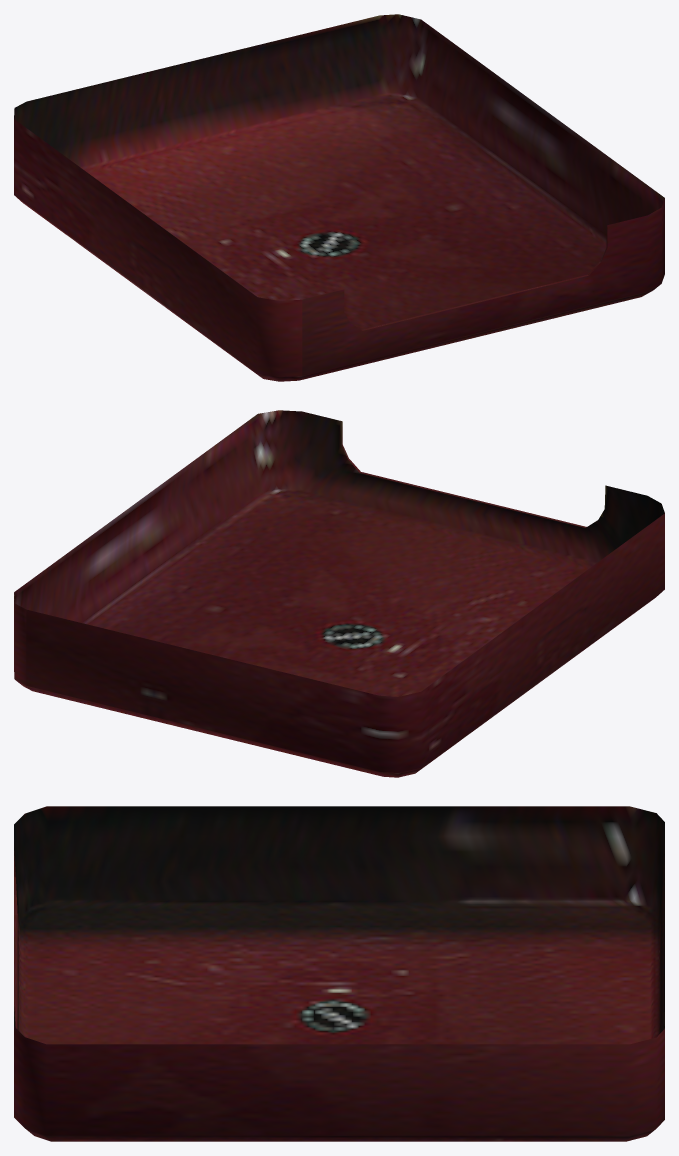
Rendered from paper_rack-2.FBX.
The picture shows the model from 3 angles, top to bottom: view 1: azimuth 30°, elevation 25°; view 2: azimuth 150°, elevation 25°; view 3: azimuth 270°, elevation 25°; orthographic projection. The views are drawn at different scales.
Parts seen in each view (by area): view 1: Line03; view 2: Line03; view 3: Line03.
Boxes of the visible parts, x1=… form: Line03: x1=14, y1=14, x2=664, y2=381; Line03: x1=14, y1=410, x2=664, y2=777; Line03: x1=14, y1=806, x2=664, y2=1141.
Size of the model in its own units: 10.87 by 2.16 by 12.57.
